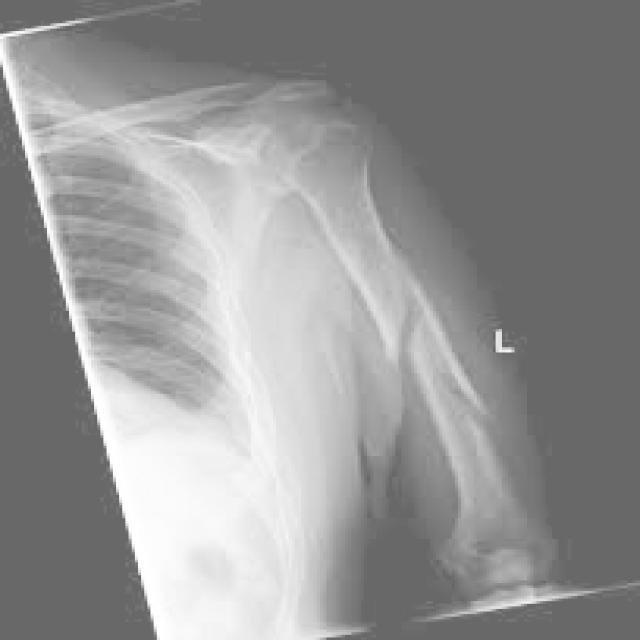Comminuted Fracture: (372, 280, 454, 376)
